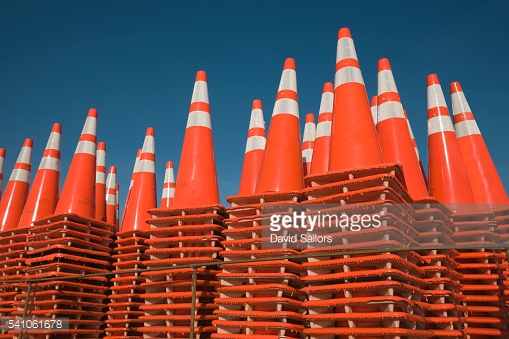trafficcone: (304, 26, 407, 189), (359, 58, 453, 217), (410, 73, 495, 218), (226, 57, 303, 203), (147, 70, 224, 214), (31, 107, 116, 229), (450, 80, 508, 213), (1, 123, 63, 232), (116, 127, 157, 236), (238, 99, 270, 197), (1, 137, 33, 233), (310, 82, 335, 174), (301, 113, 318, 177), (95, 141, 107, 221), (159, 160, 178, 209), (106, 166, 118, 223), (370, 96, 379, 129), (1, 147, 6, 200)
